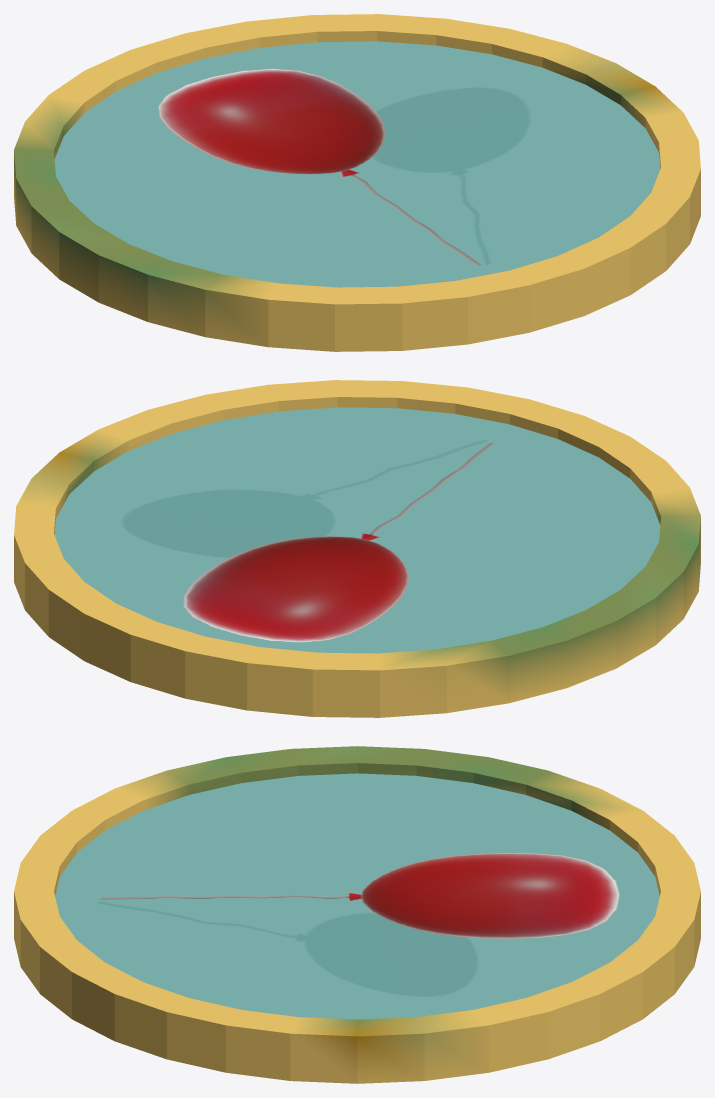
Rendered from coinbaloon.fbx.
3 views of the same model, one above another, from view 1: azimuth 30°, elevation 25°; view 2: azimuth 150°, elevation 25°; view 3: azimuth 270°, elevation 25° (orthographic).
Visible parts, largest first — view 1: Cylinder; view 2: Cylinder; view 3: Cylinder.
Boxes of the visible parts, x1,y1,x2,y2 form: Cylinder: (14,14,700,351); Cylinder: (14,380,700,717); Cylinder: (14,746,700,1083).
Size of the model in its own units: 677 by 51.52 by 677.
